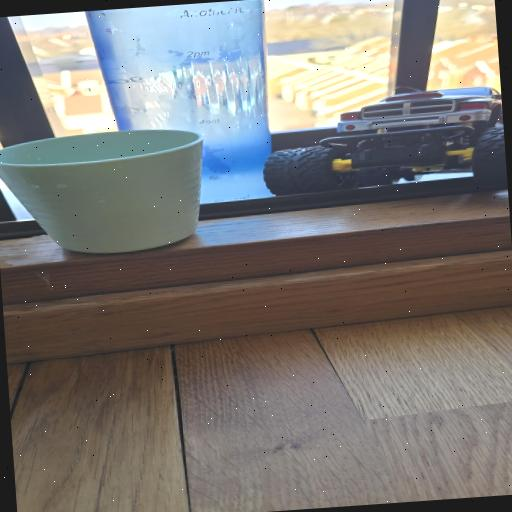bottle: (88, 0, 274, 129)
